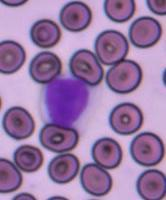L: (40, 74, 96, 128)
